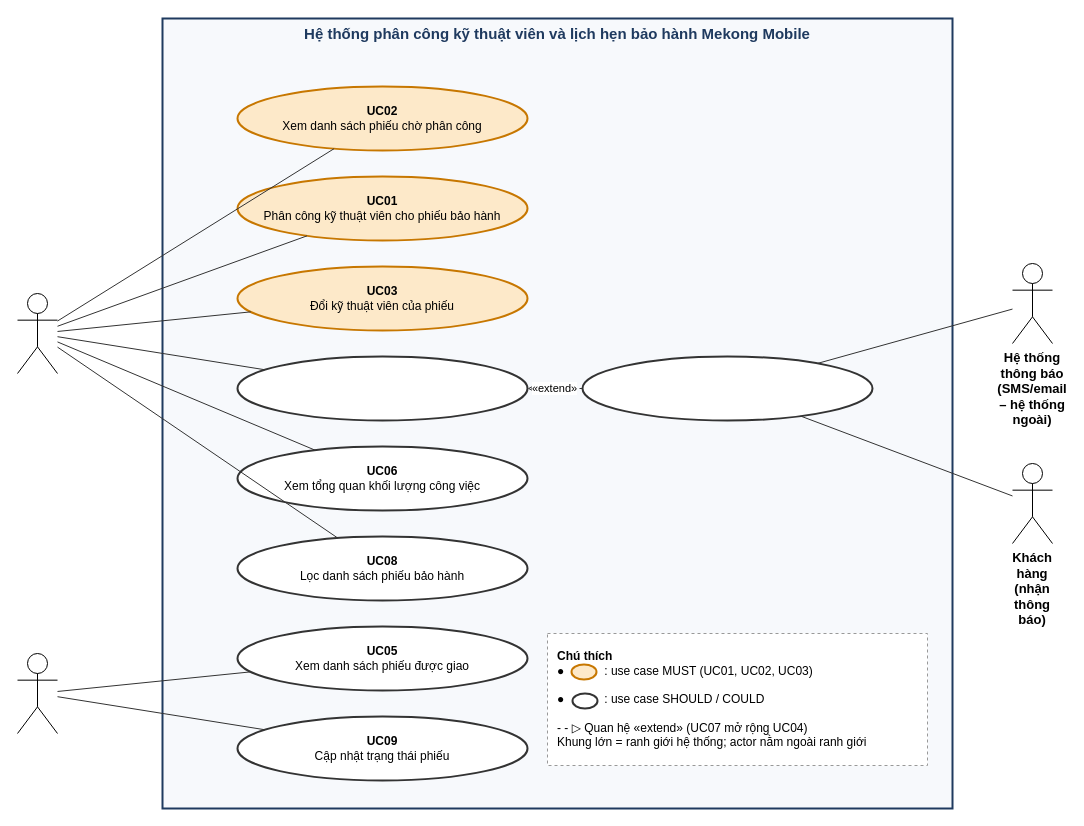
Image size: 1084x826. Some labels were removed from this diagram. The centre of each missing label's shape, as x and y in pixels:
"Kỹ thuật viên" goes at (37,693).
"Quản lý trung tâm" goes at (37,333).
"UC04 Đặt lịch hẹn giao nhận máy" goes at (382,388).
"UC07 Gửi thông báo lịch hẹn cho khách hàng" goes at (727,388).
